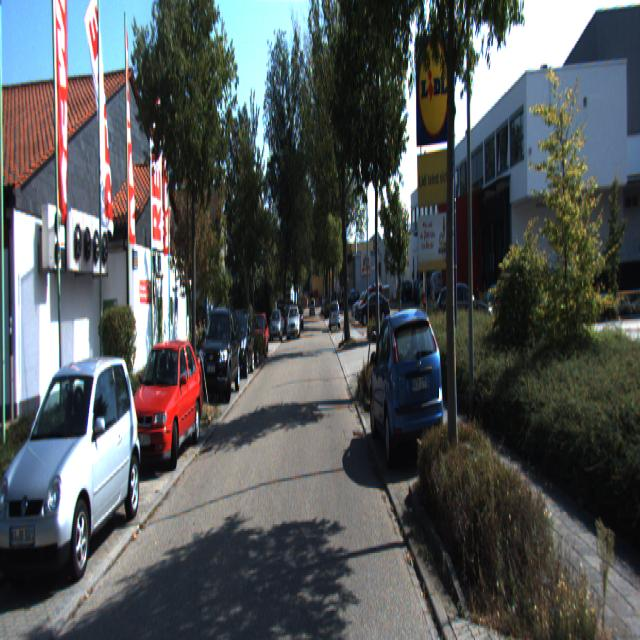Car: (0, 349, 142, 593), (368, 298, 446, 467), (127, 333, 204, 468), (198, 306, 242, 407), (224, 312, 255, 384), (358, 289, 391, 324), (248, 312, 268, 359), (330, 300, 340, 332)
DontCare: (402, 268, 495, 338), (269, 304, 304, 333), (346, 283, 370, 309), (319, 292, 327, 318), (310, 297, 314, 318)
